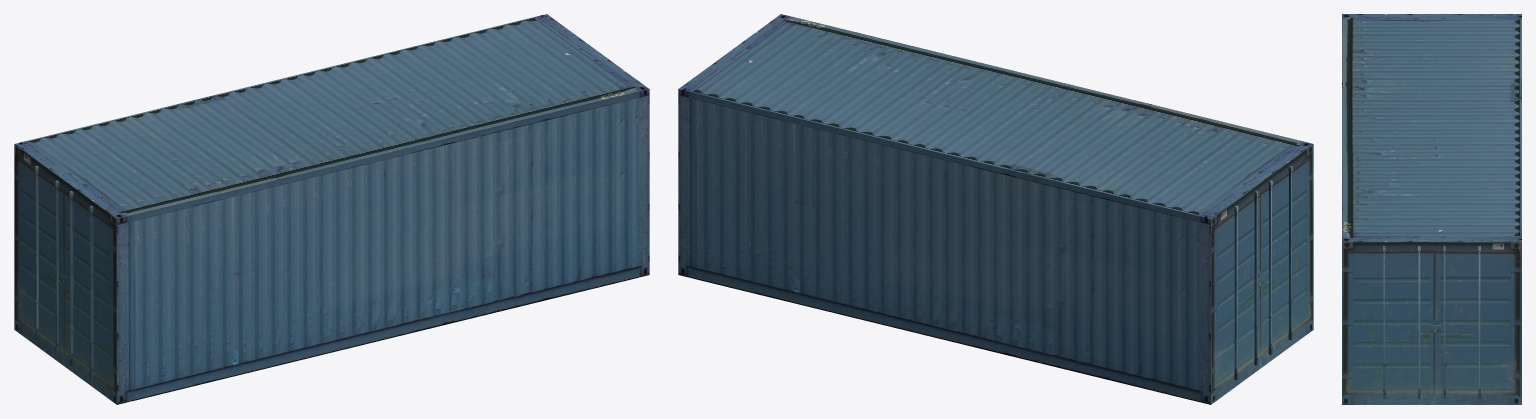
Rendered from Container_Cargo06.FBX.
3 renders of one model, left to right at view 1: azimuth 30°, elevation 25°; view 2: azimuth 150°, elevation 25°; view 3: azimuth 270°, elevation 25°, orthographic. The views are drawn at different scales.
Parts seen in each view (by area): view 1: Container_Cargo06; view 2: Container_Cargo06; view 3: Container_Cargo06.
Part boxes in pixels (x1,y1,x2,y2): Container_Cargo06: (14,14,649,404); Container_Cargo06: (678,14,1313,404); Container_Cargo06: (1342,14,1521,404).
Size of the model in its own units: 327 by 108 by 108.
